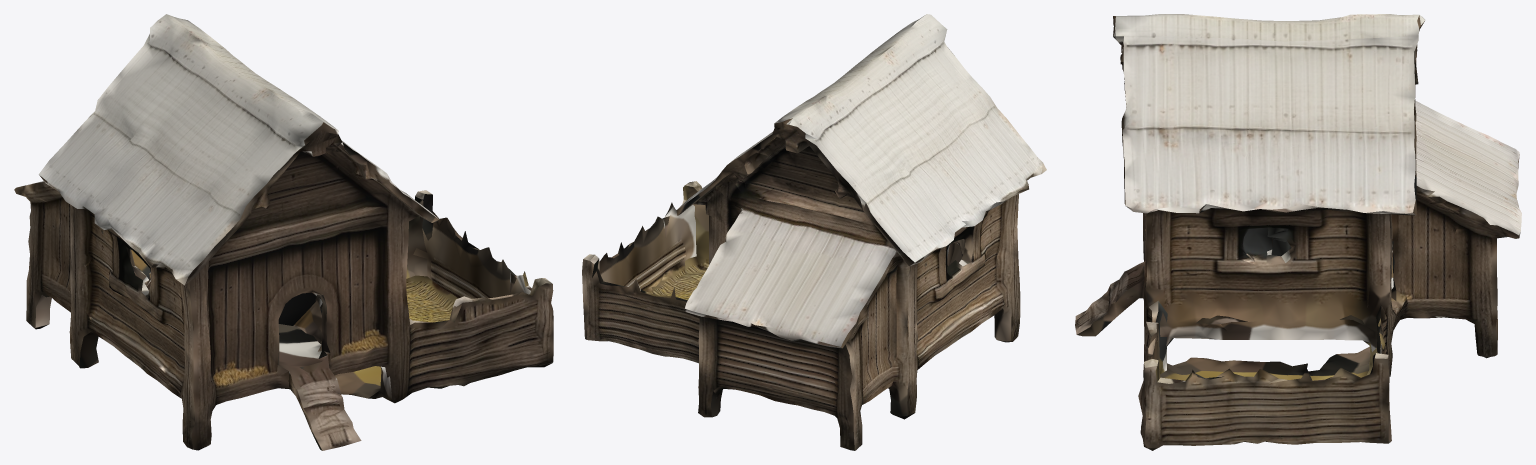
The model's file is chicken_coop.glb.
3 renders of one model, left to right at view 1: azimuth 30°, elevation 25°; view 2: azimuth 150°, elevation 25°; view 3: azimuth 270°, elevation 25°, orthographic. The views are drawn at different scales.
Visible parts, largest first — view 1: ChickenCoop; view 2: ChickenCoop; view 3: ChickenCoop.
Part boxes in pixels (<box>): ChickenCoop: <box>14,14,553,450</box>; ChickenCoop: <box>582,14,1046,450</box>; ChickenCoop: <box>1075,14,1521,450</box>.
Size of the model in its own units: 3.2 by 2.5 by 3.18.
Materials: 1 (1 with a texture image).
